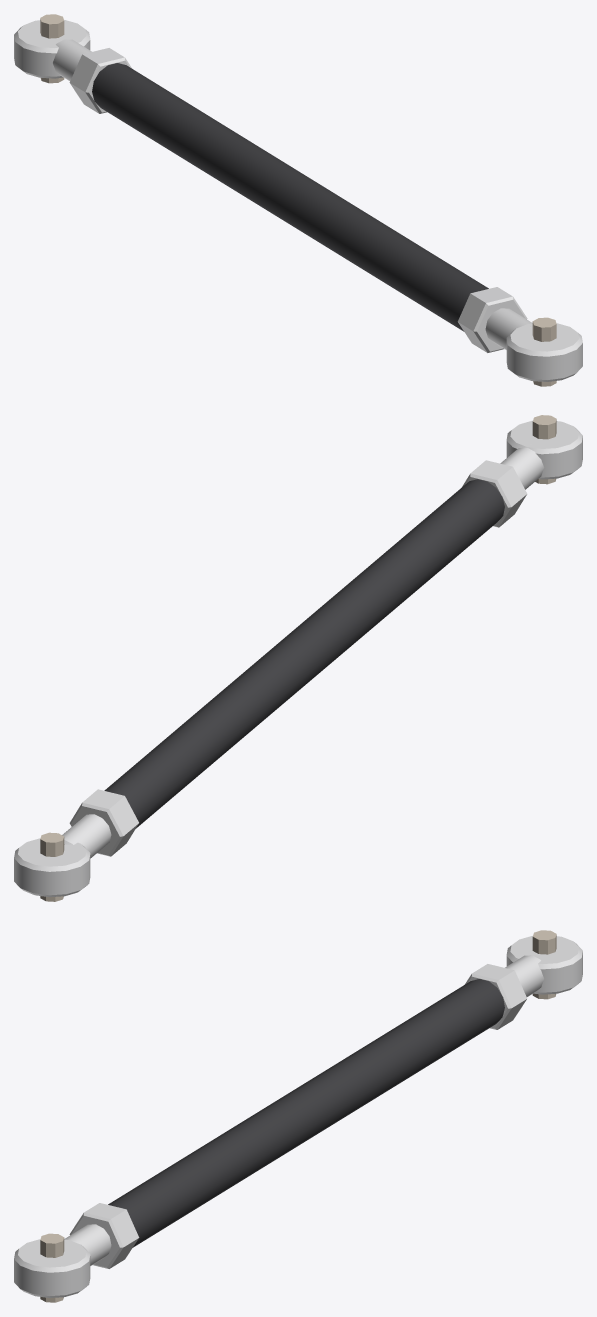
Rendered from SM_Susp_FR_TieRod.fbx.
3 views of the same model, one above another, from view 1: azimuth 30°, elevation 25°; view 2: azimuth 150°, elevation 25°; view 3: azimuth 330°, elevation 25° (orthographic).
Parts seen in each view (by area): view 1: Export_Susp_FR_TieRod; view 2: Export_Susp_FR_TieRod; view 3: Export_Susp_FR_TieRod.
Boxes of the visible parts, x1,y1,x2,y2 form: Export_Susp_FR_TieRod: (14, 14, 582, 386); Export_Susp_FR_TieRod: (14, 415, 582, 901); Export_Susp_FR_TieRod: (14, 930, 582, 1302).
Size of the model in its own units: 0.4045 by 0.0287 by 0.0488.
